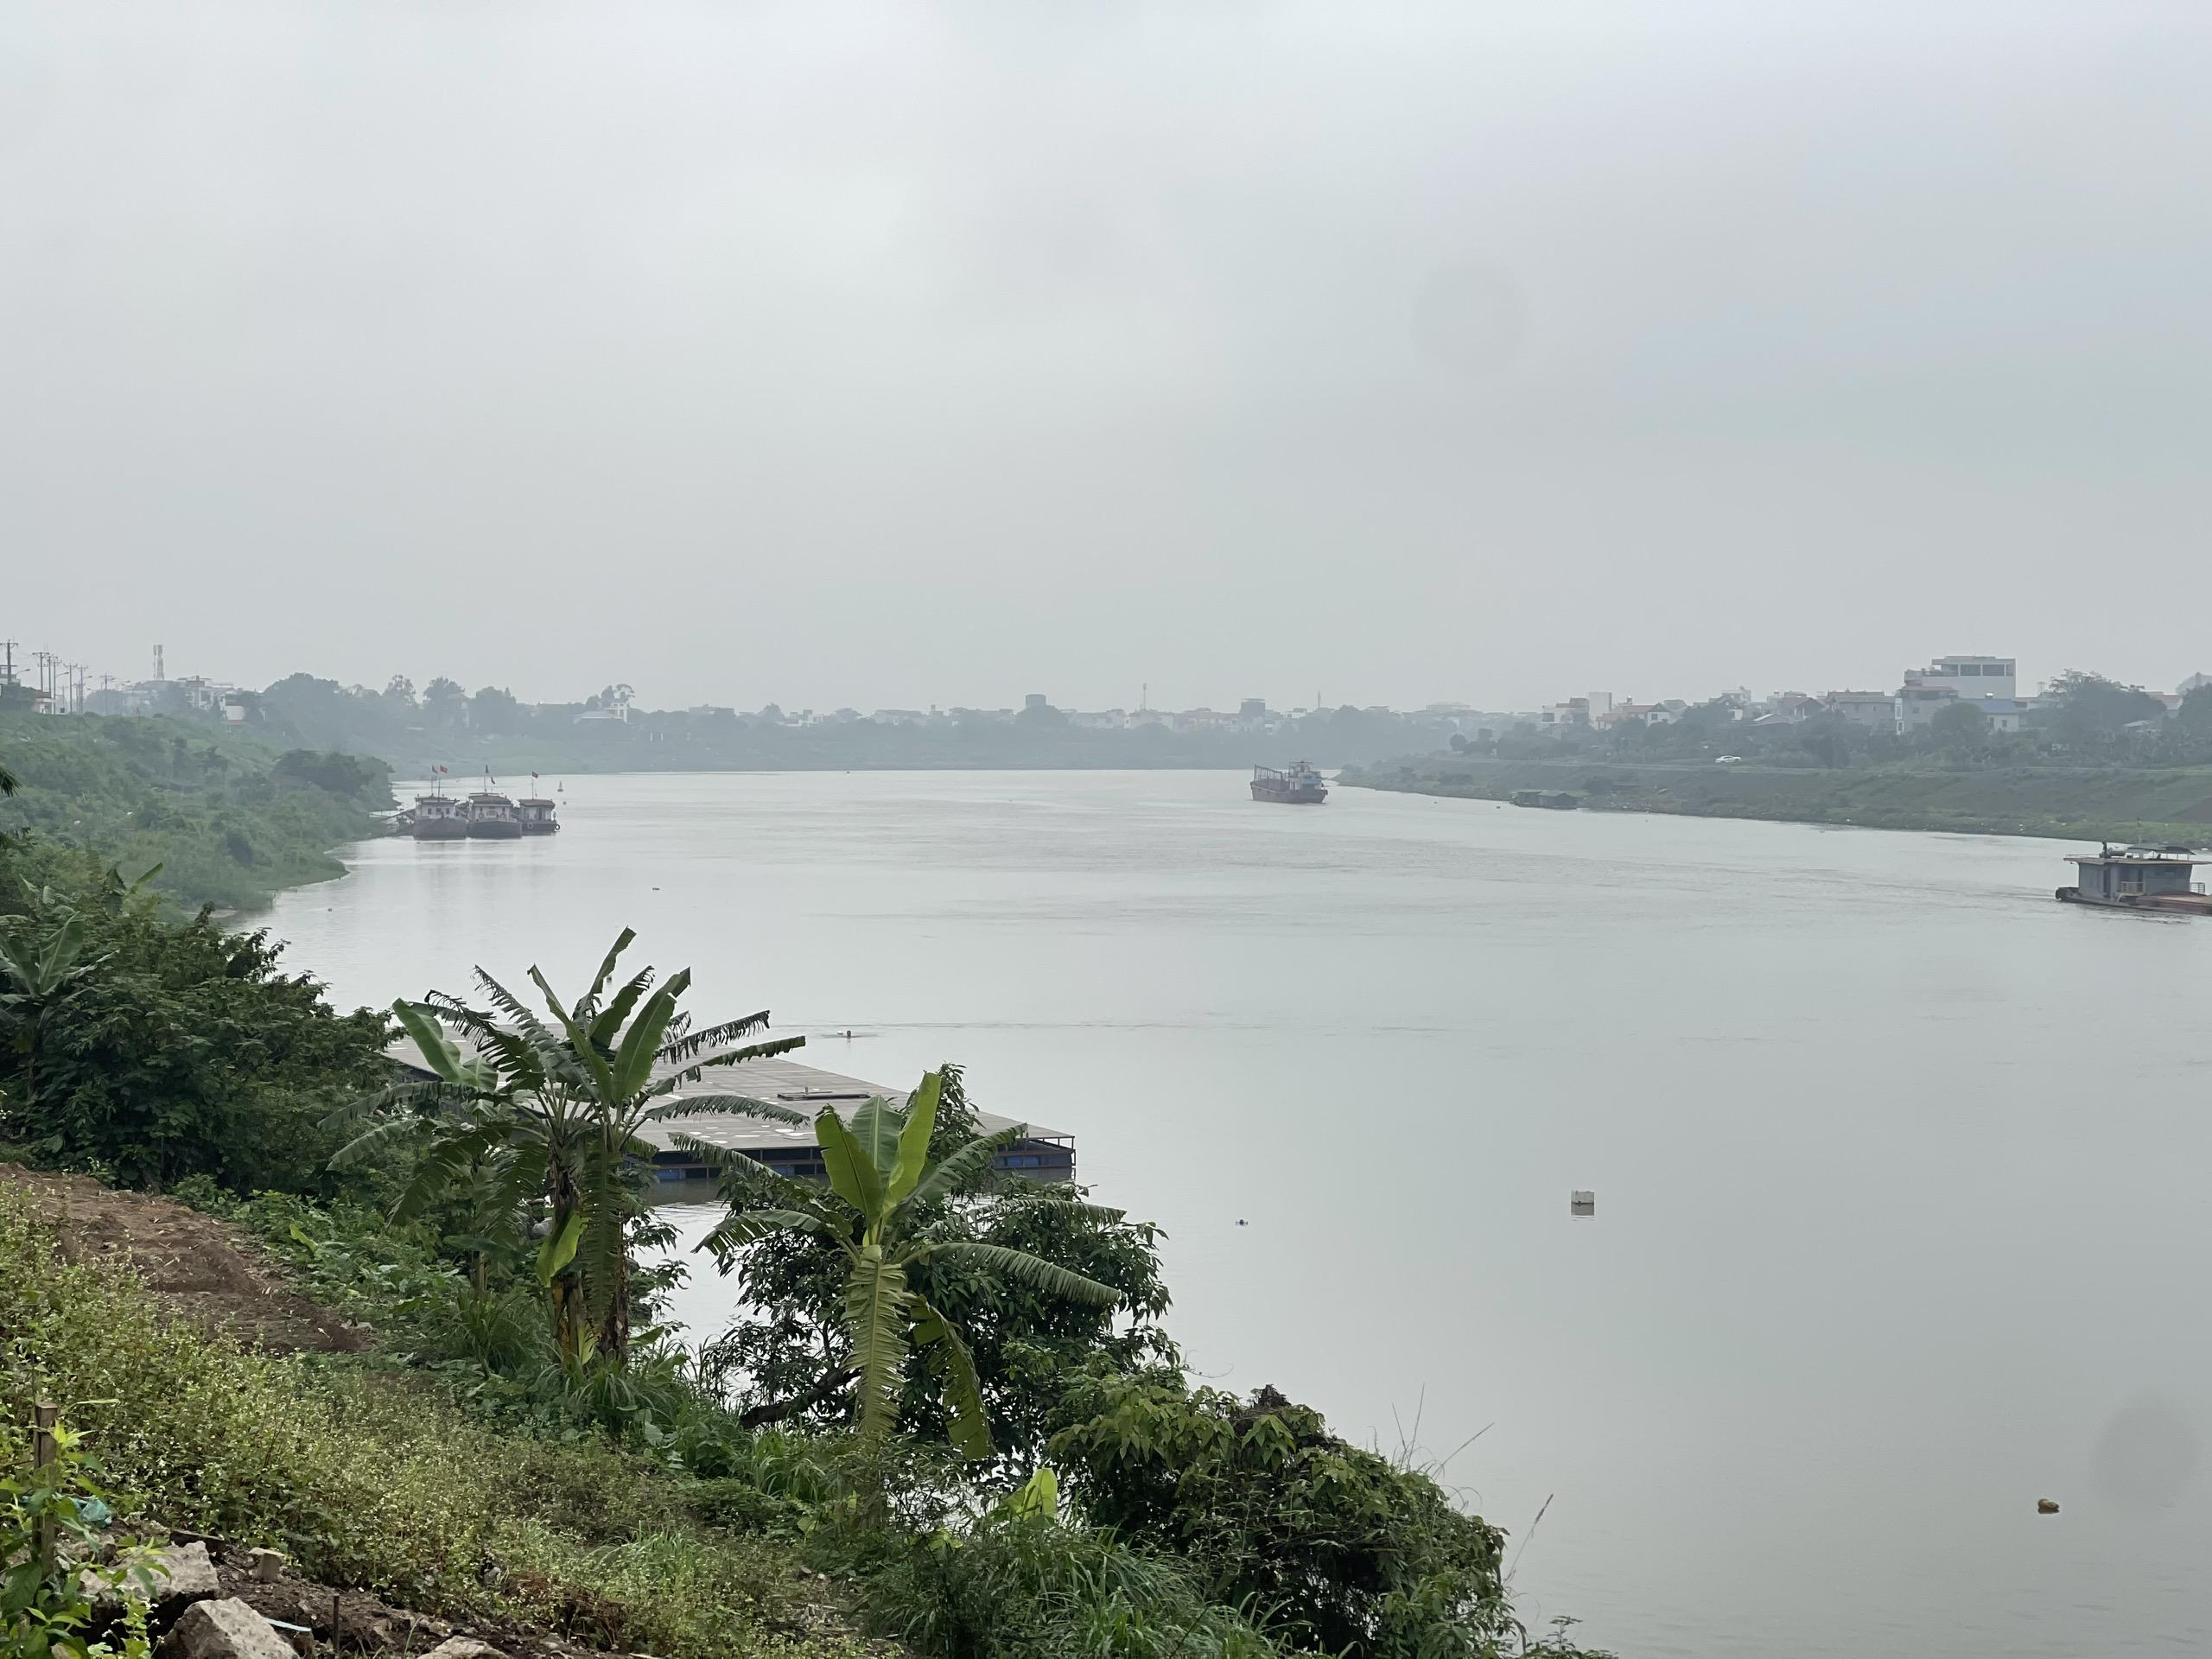Ship: (2050, 845, 2207, 917), (1240, 760, 1338, 807)
